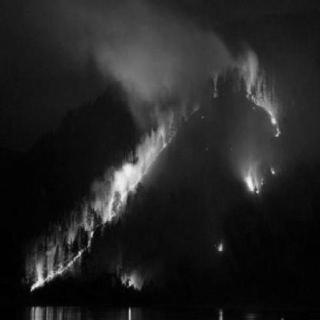Fire: (114, 26, 284, 154), (221, 153, 281, 201)
